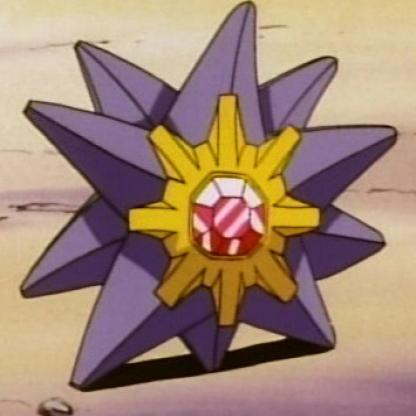Starmie: (14, 1, 402, 385)
